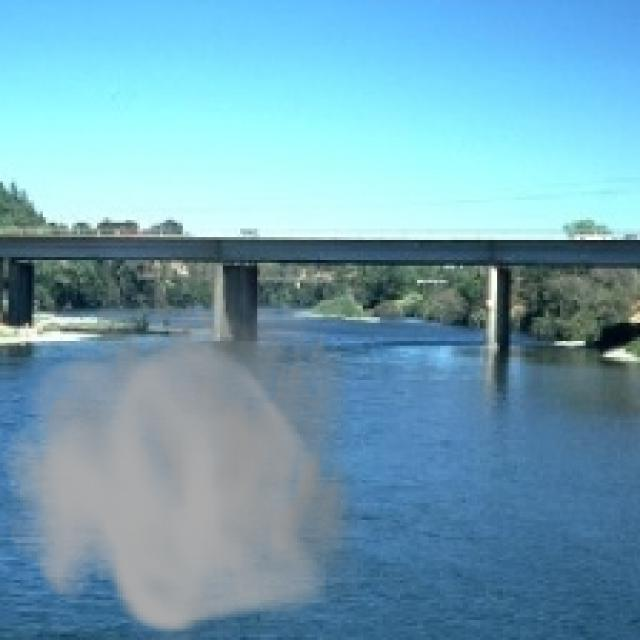smoke: (3, 234, 377, 637)
